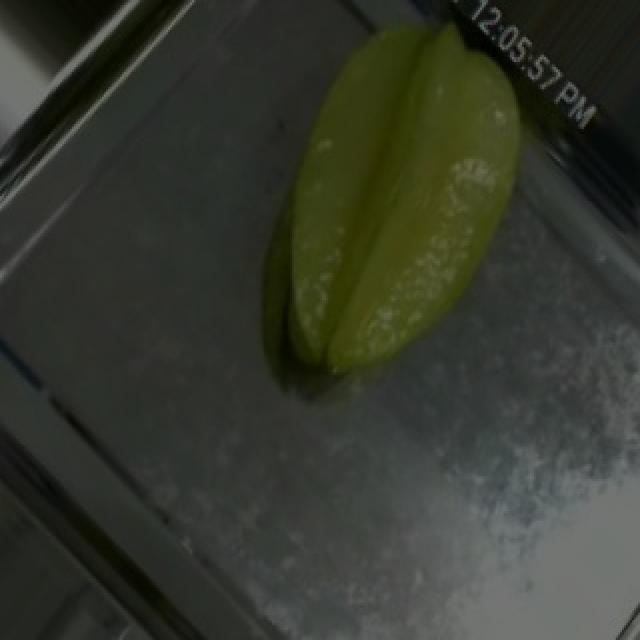fruit: (200, 0, 606, 402)
